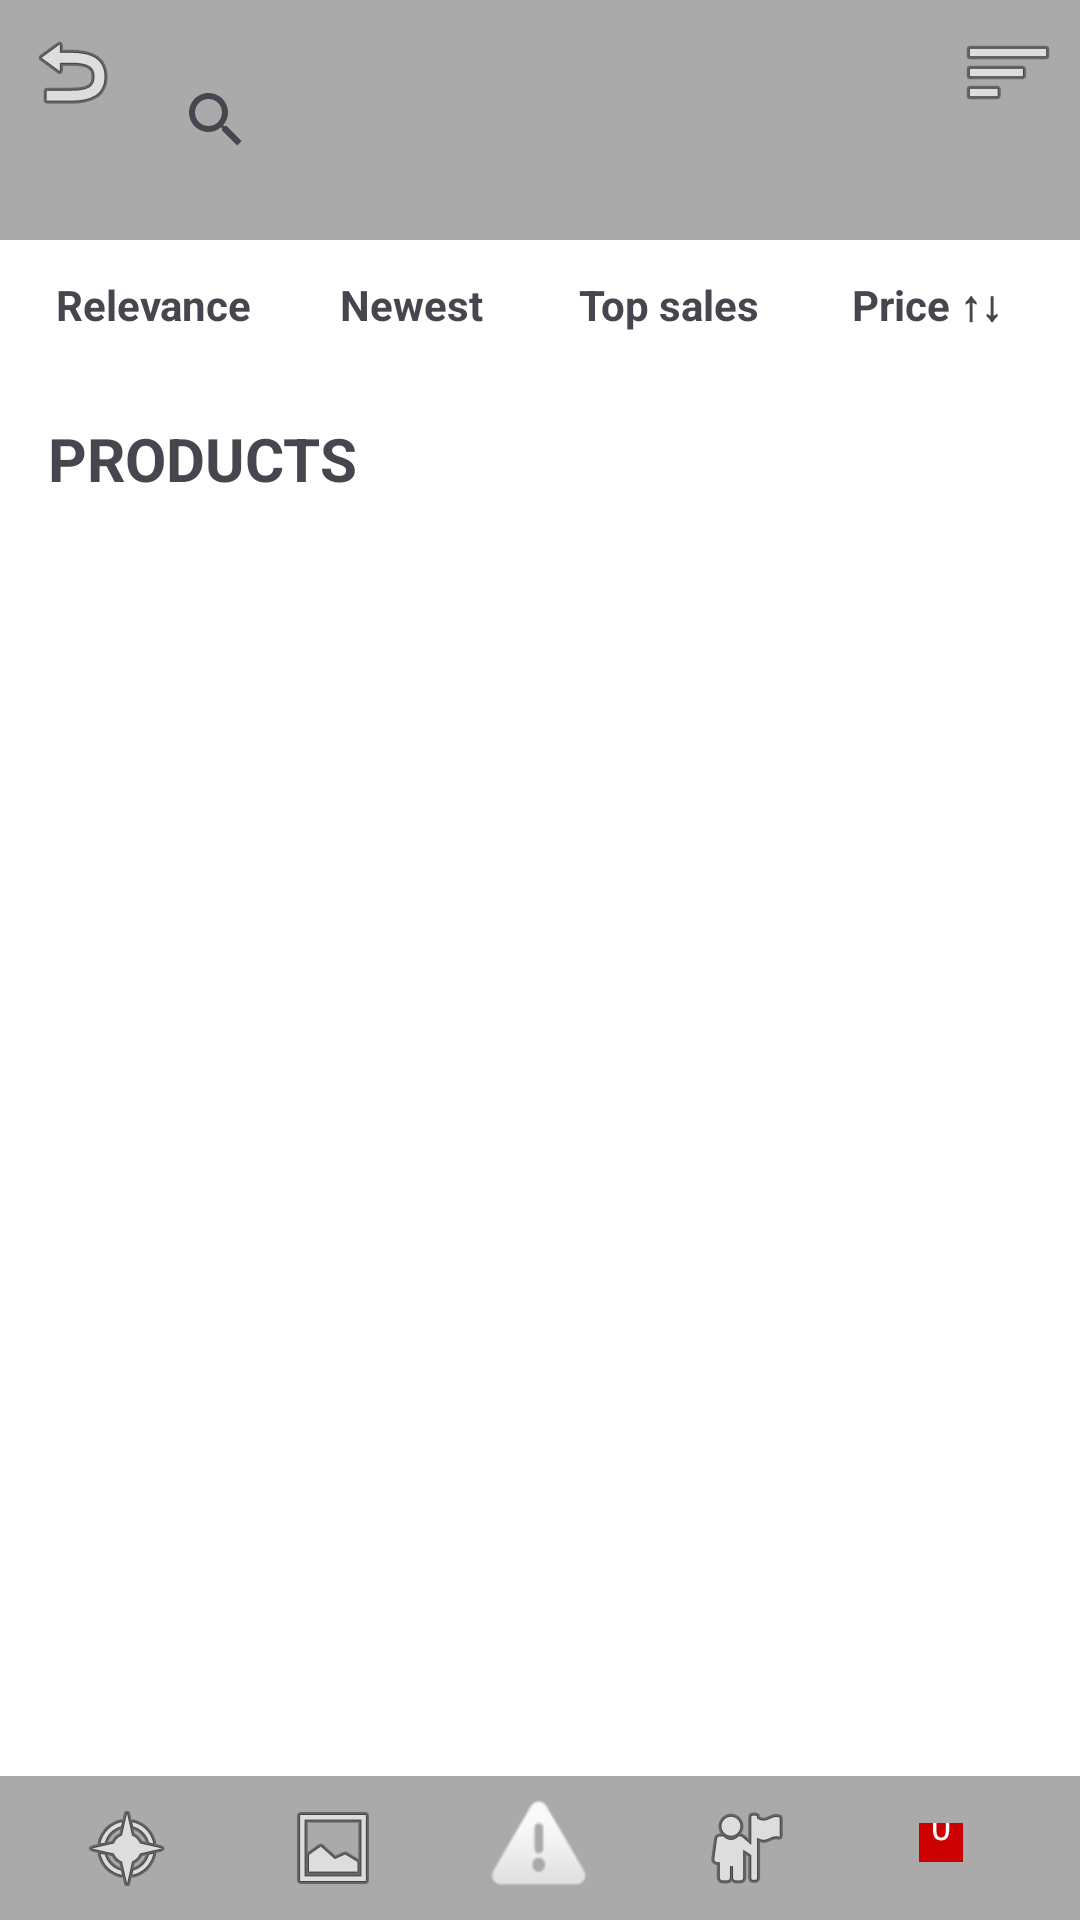

Point at icon controls on the screen. Image size 1080×1920, points as (x=x, y=y).
Back: (x=73, y=72)
Filter: (x=1008, y=72)
Profile: (x=747, y=1848)
